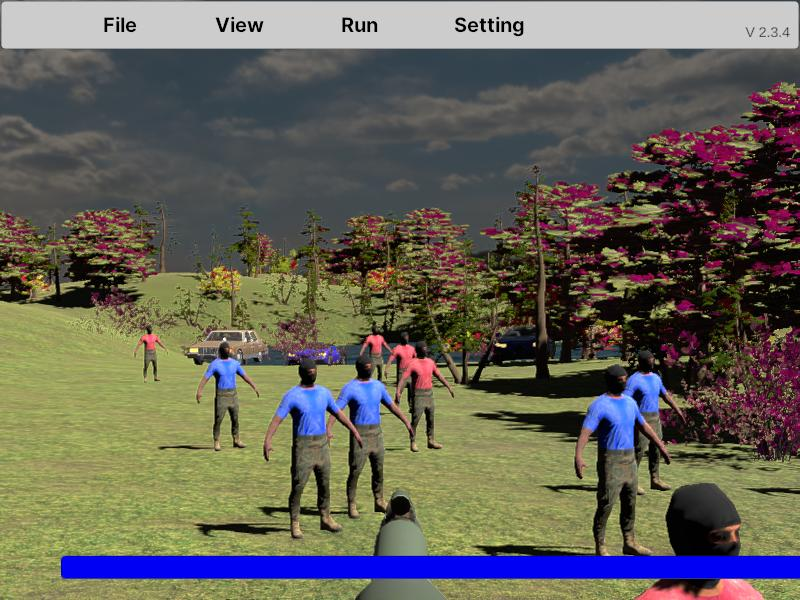Human: (574, 361, 670, 559), (263, 355, 363, 540), (324, 351, 416, 520), (613, 349, 686, 492), (196, 343, 259, 451), (397, 344, 454, 451), (386, 330, 426, 422), (360, 322, 392, 395), (135, 324, 167, 383)
car: (187, 328, 268, 366)
